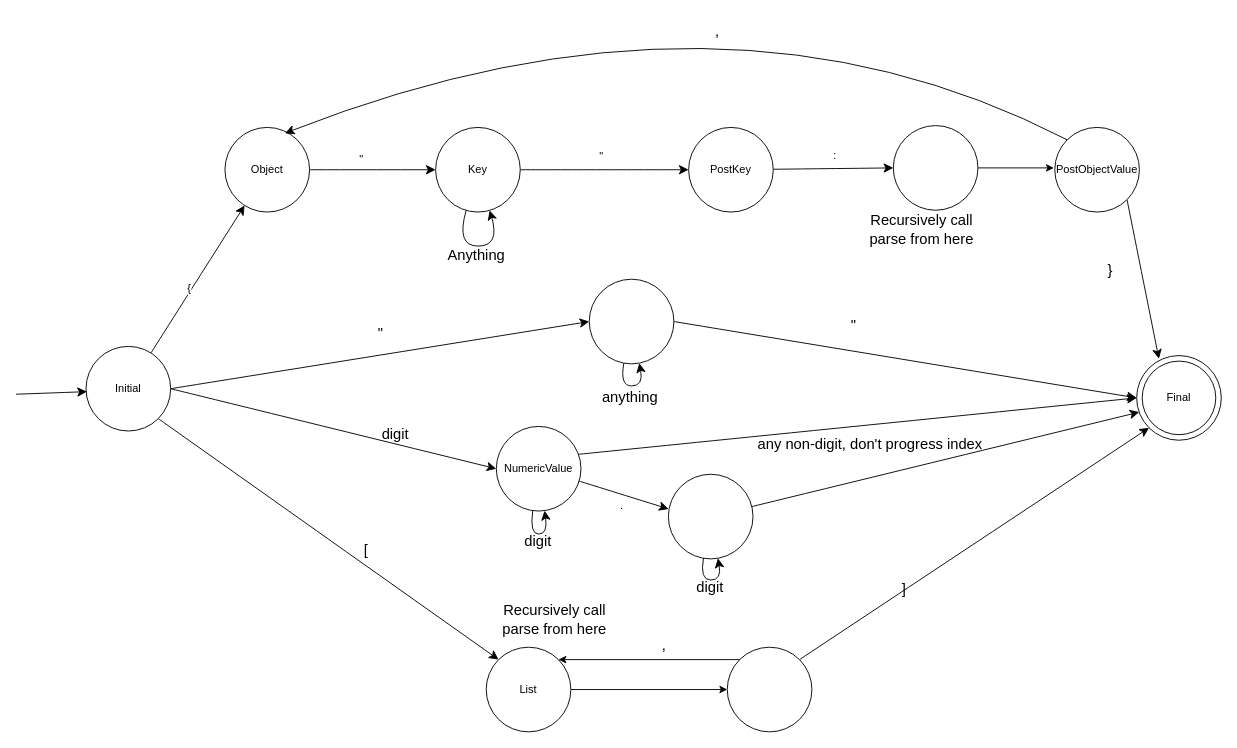
This 1237x748 diagram has some shape labels left out. Here are the shapes that lost their labels. From the top down, the centre of each, then its label:
At [935,167]: "ObjectValue".
At [631,321]: "StringValue".
At [710,516]: "DecimalValue".
At [769,689]: "PostList".
